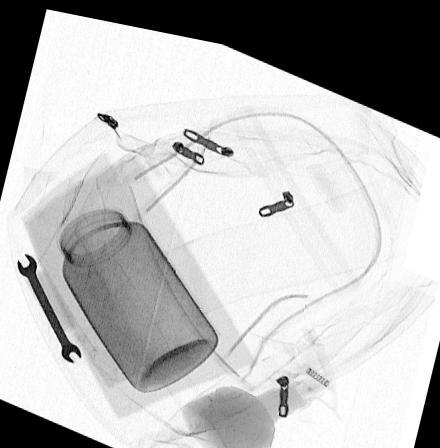Wrench: (13, 252, 83, 359)
